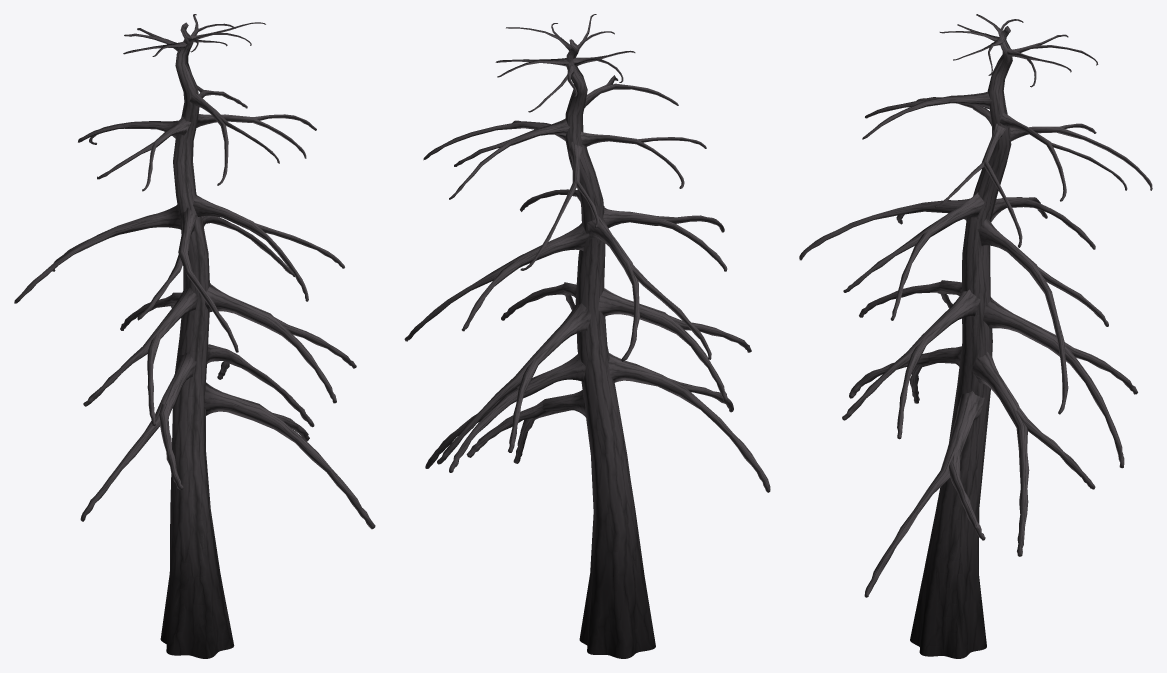
The model's file is Nature_DeadTree_5.glb.
3 views of the same model, side by side, from view 1: azimuth 30°, elevation 25°; view 2: azimuth 150°, elevation 25°; view 3: azimuth 270°, elevation 25° (orthographic). The views are drawn at different scales.
Visible parts, largest first — view 1: DeadTree_5; view 2: DeadTree_5; view 3: DeadTree_5.
Boxes of the visible parts, x1,y1,x2,y2 form: DeadTree_5: (14,14,375,658); DeadTree_5: (404,14,770,658); DeadTree_5: (799,14,1152,658).
Bounding box in the file's own units: 8.36 × 16.44 × 8.41.
1 material, 1 textured.
